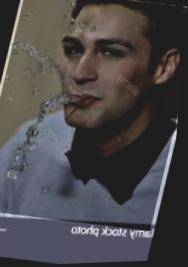spitting: (0, 0, 187, 239)
